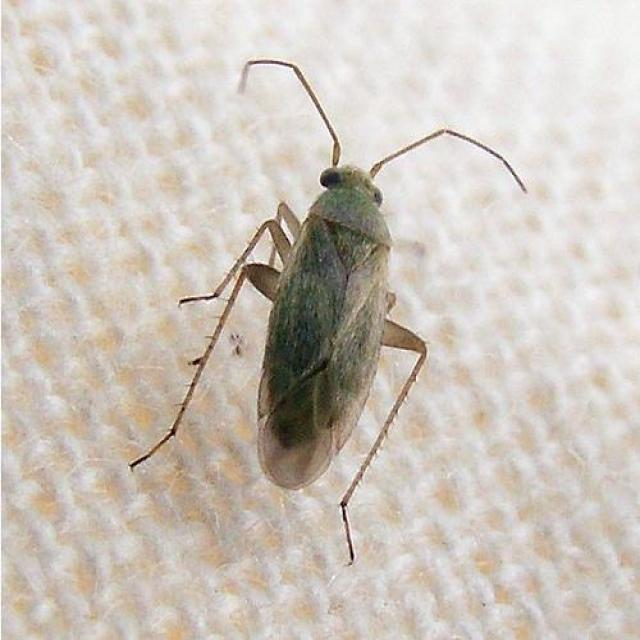Miridae-Adult-: (141, 47, 534, 514)
